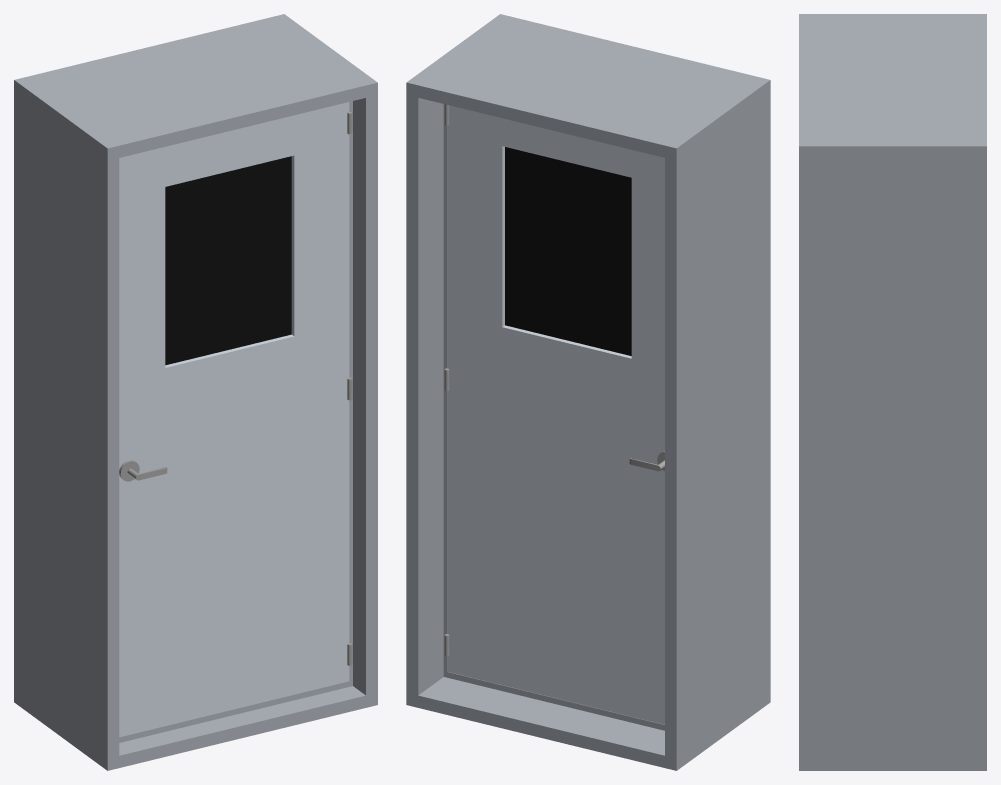
File: SM06_Building_Door_03.fbx
The picture shows the model from 3 angles, left to right: view 1: azimuth 30°, elevation 25°; view 2: azimuth 150°, elevation 25°; view 3: azimuth 270°, elevation 25°; orthographic projection.
Parts seen in each view (by area): view 1: SM06_Building_Door_03; view 2: SM06_Building_Door_03; view 3: SM06_Building_Door_03.
Boxes of the visible parts, bbox=[...] form: SM06_Building_Door_03: bbox=[14, 14, 377, 770]; SM06_Building_Door_03: bbox=[406, 14, 770, 770]; SM06_Building_Door_03: bbox=[799, 14, 986, 770].
Bounding box in the file's own units: 1 × 2.2 × 0.6.
